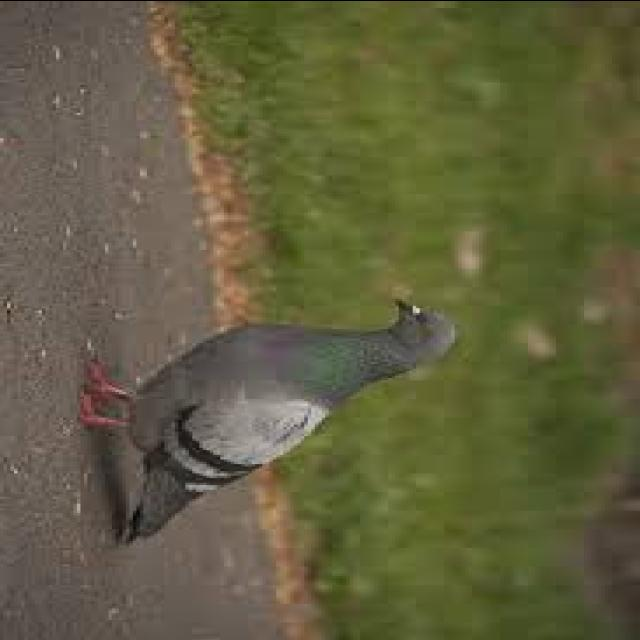pigeon: (53, 284, 465, 548)
